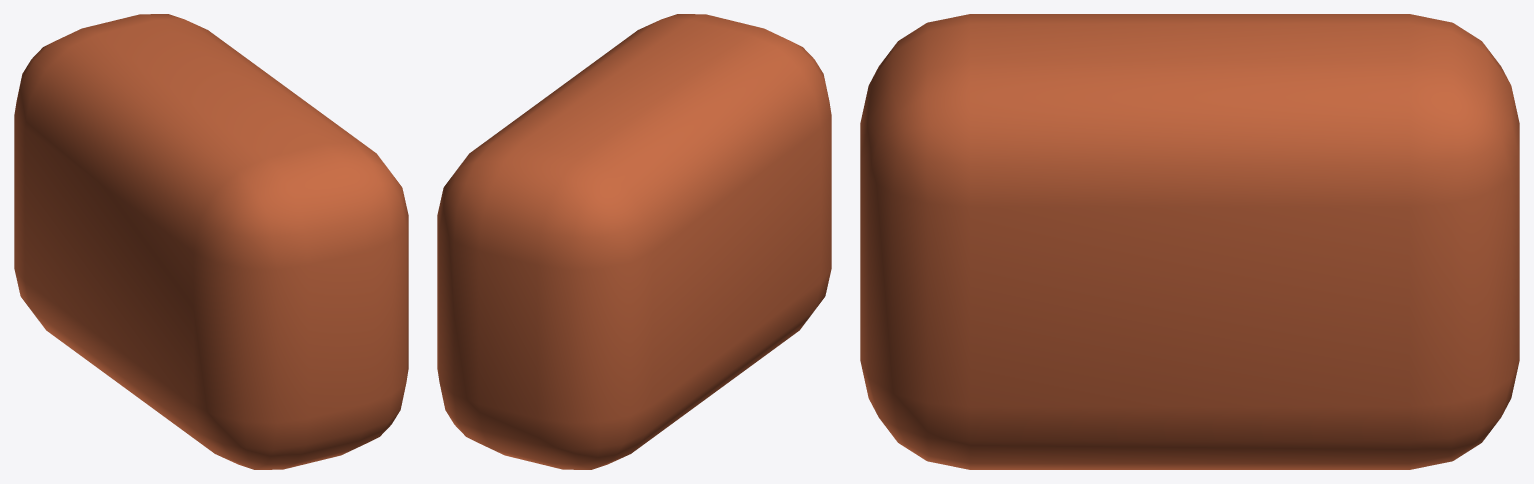
File: drywall_screwdriver_trigger.glb
The picture shows the model from 3 angles, left to right: view 1: azimuth 30°, elevation 25°; view 2: azimuth 150°, elevation 25°; view 3: azimuth 270°, elevation 25°; orthographic projection. The views are drawn at different scales.
Visible parts, largest first — view 1: drywall_screwdriver_trigger; view 2: drywall_screwdriver_trigger; view 3: drywall_screwdriver_trigger.
Part boxes in pixels (<box>): drywall_screwdriver_trigger: <box>14,14,408,469</box>; drywall_screwdriver_trigger: <box>437,14,831,469</box>; drywall_screwdriver_trigger: <box>860,14,1519,469</box>.
Size of the model in its own units: 0.014 by 0.02 by 0.03.
